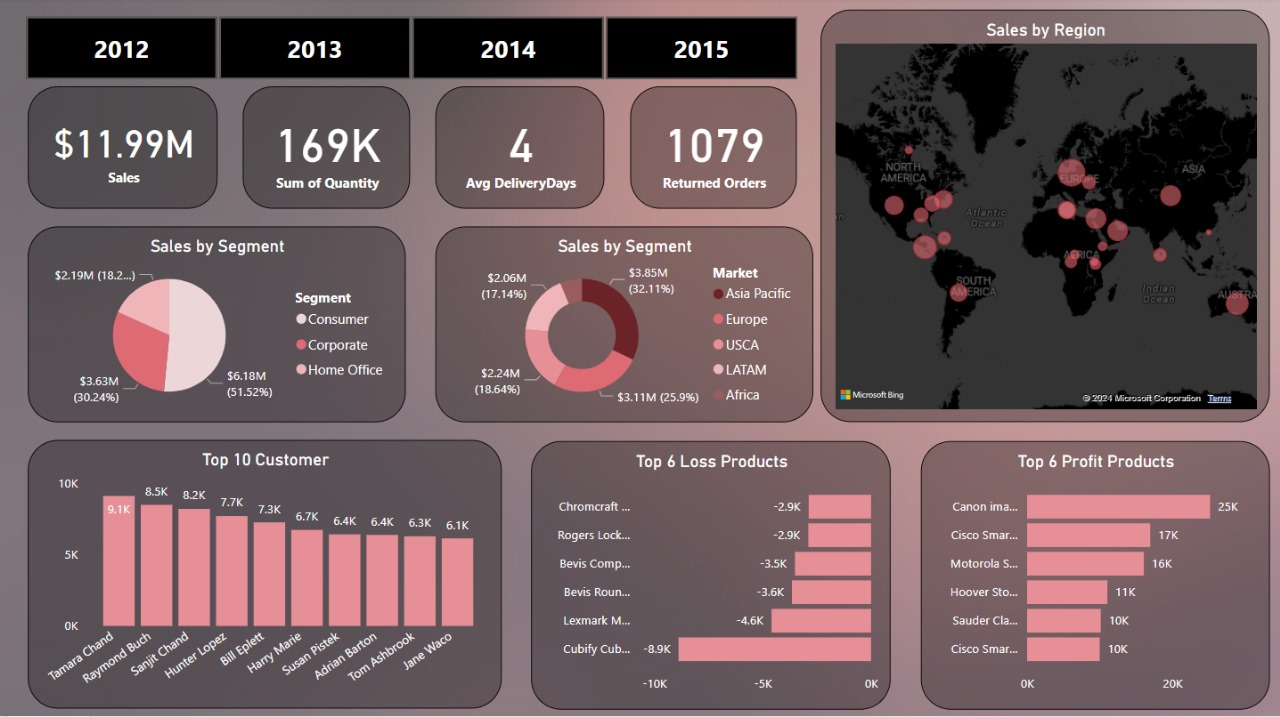

This screenshot's page, from the dashboard's own definition file:
{"tool":"powerbi","page":{"name":"Page 1","canvas":[1280,720],"ordinal":0},"visuals":[{"type":"card","fields":{"Values":["Orders.Sales"]},"box":[27.4,89.2,189.4,122.1],"z":0},{"type":"slicer","fields":{"Values":["Orders.Year"]},"box":[0,12.3,820.6,76.8],"z":1000},{"type":"map","title":"Sales by Region","fields":{"Category":["Orders.Region"],"Size":["Orders.Sales"]},"box":[820.6,12.3,448.7,413],"z":2000},{"type":"card","fields":{"Values":["Orders.Quantity"]},"box":[242.4,89.2,167.4,122.1],"z":3000},{"type":"card","fields":{"Values":["Orders.Delivery Days"]},"box":[435.5,89.2,168.8,122.1],"z":4000},{"type":"card","fields":{"Values":["Returns.Return Orders"]},"box":[629.8,89.2,166,122.1],"z":5000},{"type":"clusteredBarChart","title":"Top 6 Profit Products","fields":{"Y":["Orders.Profit"],"Category":["Orders.Product Name"]},"box":[920.8,443.6,348.5,269],"z":6000},{"type":"clusteredBarChart","title":"Top 6 Loss Products","fields":{"Y":["Orders.Profit"],"Category":["Orders.Product Name"]},"box":[516,443.6,359.5,269],"z":7000},{"type":"pieChart","title":"Sales by Segment","fields":{"Category":["Orders.Segment"],"Y":["Orders.Sales"]},"box":[27.4,229.2,377.4,196.2],"z":7001},{"type":"donutChart","title":"Sales by Segment","fields":{"Category":["Orders.Market"],"Y":["Orders.Sales"]},"box":[435,229.2,377.4,196.2],"z":7002},{"type":"columnChart","title":"Top 10 Customer","fields":{"Y":["Orders.Profit"],"Category":["Orders.Customer Name"]},"box":[27.4,443.2,473.4,269],"z":7003}]}

Visuals, with their boxes in screenshot pixels (x1, y1, x2, y2), scaled from the page's 1280x720 canvas onto the 1280x717 screenshot:
card - Orders.Sales: (x1=27, y1=89, x2=217, y2=210)
slicer - Orders.Year: (x1=0, y1=12, x2=821, y2=89)
"Sales by Region" map: (x1=821, y1=12, x2=1269, y2=424)
card - Orders.Quantity: (x1=242, y1=89, x2=410, y2=210)
card - Orders.Delivery Days: (x1=436, y1=89, x2=604, y2=210)
card - Returns.Return Orders: (x1=630, y1=89, x2=796, y2=210)
"Top 6 Profit Products" clusteredBarChart: (x1=921, y1=442, x2=1269, y2=710)
"Top 6 Loss Products" clusteredBarChart: (x1=516, y1=442, x2=876, y2=710)
"Sales by Segment" pieChart: (x1=27, y1=228, x2=405, y2=424)
"Sales by Segment" donutChart: (x1=435, y1=228, x2=812, y2=424)
"Top 10 Customer" columnChart: (x1=27, y1=441, x2=501, y2=709)
